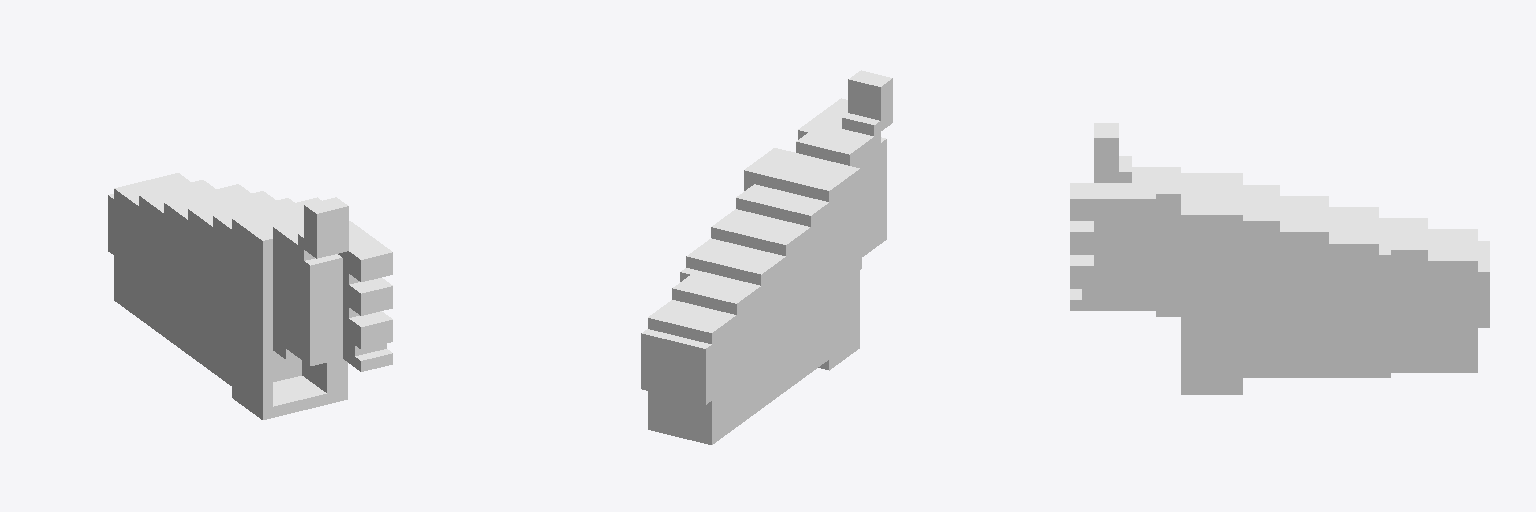
File: pirata-0.obj
The picture shows the model from 3 angles: view 1: azimuth 30°, elevation 25°; view 2: azimuth 150°, elevation 25°; view 3: azimuth 270°, elevation 25°; orthographic projection.
Parts seen in each view (by area): view 1: object 1; view 2: object 1; view 3: object 1.
Boxes of the visible parts, x1=… form: object 1: x1=108, y1=173, x2=392, y2=419; object 1: x1=641, y1=70, x2=892, y2=444; object 1: x1=1070, y1=123, x2=1489, y2=394.
Size of the model in its own units: 0.8 by 2.1 by 3.4.